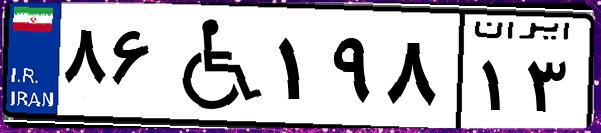1: (270, 28, 330, 110), (475, 38, 525, 113)
3: (525, 38, 570, 115)
6: (110, 28, 158, 98)
8: (385, 28, 445, 110), (57, 26, 110, 100)
9: (330, 28, 385, 110)
ژ (معلولین و جانبازان): (158, 12, 270, 120)
